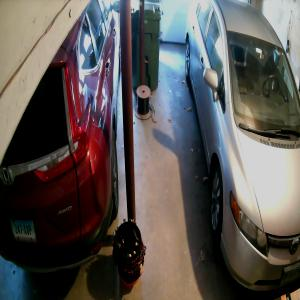garbage bin: (130, 0, 162, 91)
honda civic: (184, 0, 300, 297)
honda crv: (0, 0, 121, 275)
tool bucket: (112, 217, 147, 287)
